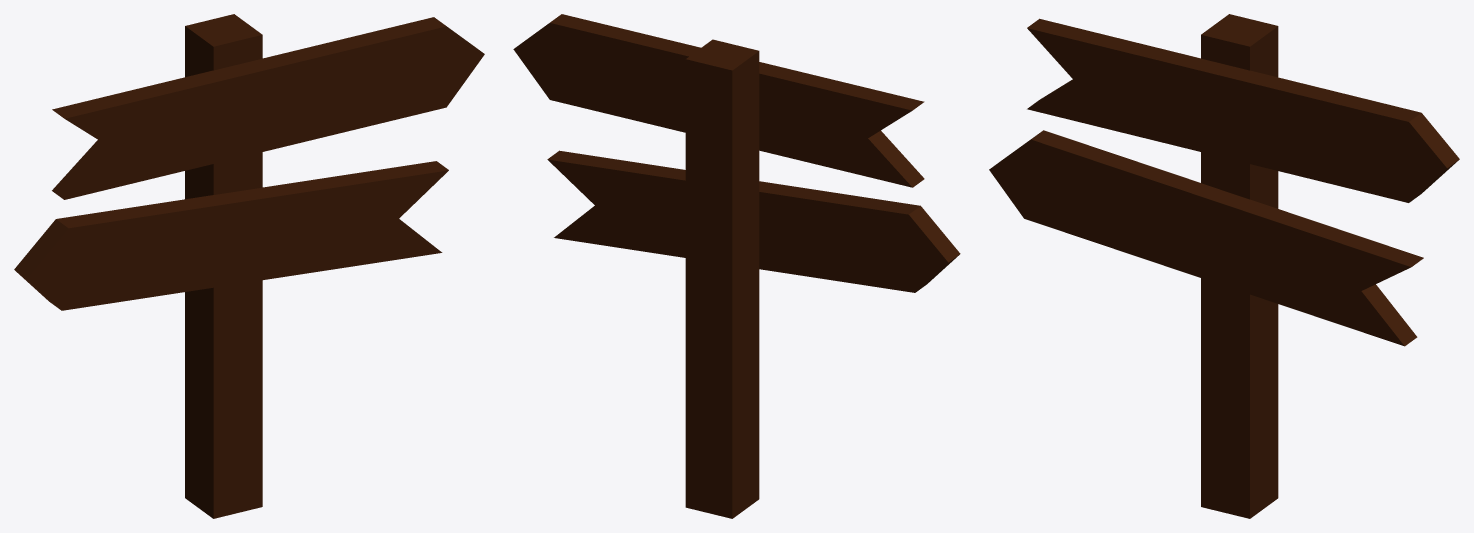
File: DirectionSign.fbx
3 views of the same model, side by side, from view 1: azimuth 30°, elevation 25°; view 2: azimuth 150°, elevation 25°; view 3: azimuth 330°, elevation 25° (orthographic). The views are drawn at different scales.
Visible parts, largest first — view 1: Cube.003, Cube.002, Block; view 2: Block, Cube.003, Cube.002; view 3: Cube.002, Cube.003, Block.
Boxes of the visible parts, x1,y1,x2,y2 form: Cube.003: [52, 17, 484, 199]; Cube.002: [14, 161, 448, 310]; Block: [185, 14, 262, 518]; Block: [685, 39, 759, 518]; Cube.003: [513, 14, 924, 187]; Cube.002: [547, 150, 960, 292]; Cube.002: [989, 130, 1423, 346]; Cube.003: [1027, 18, 1459, 202]; Block: [1201, 14, 1278, 518].
Bounding box in the file's own units: 1304 × 1284 × 202.
